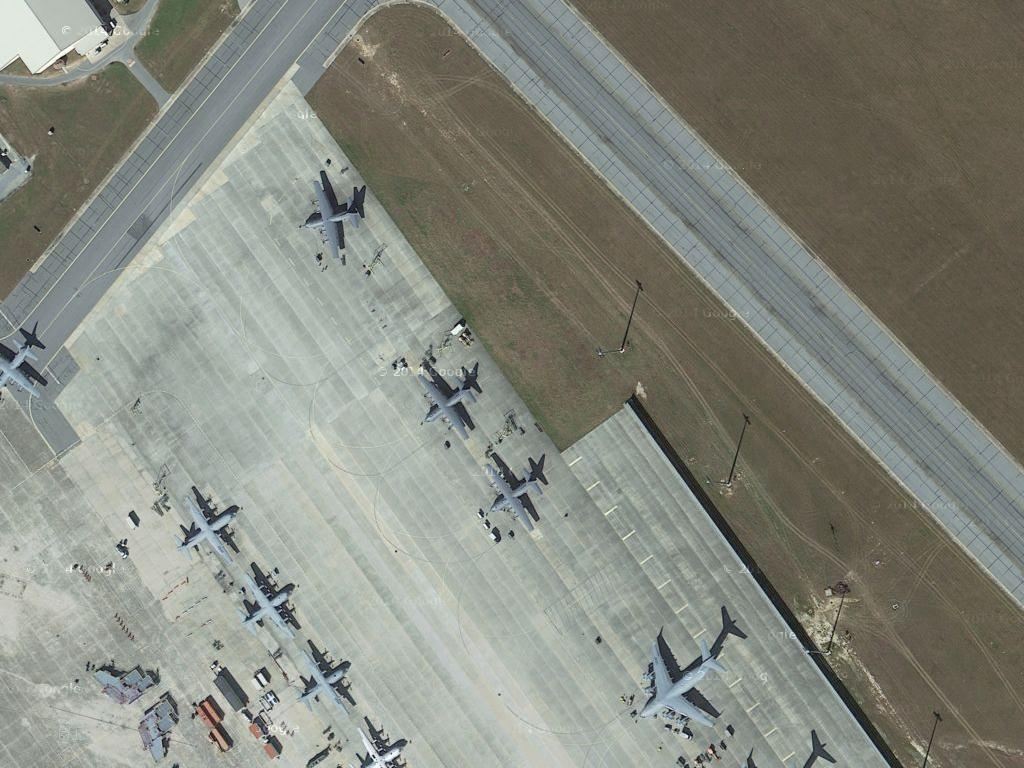C-130: (295, 175, 367, 257), (411, 369, 481, 444), (480, 457, 546, 533), (175, 490, 242, 564), (234, 569, 298, 642), (293, 648, 357, 720)
C-17: (637, 628, 728, 734)
